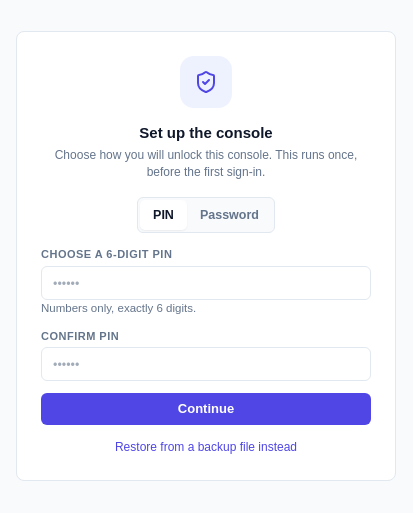
Test: Setup — password mode validation › rejects mismatched passwords
Click the radio button labelled "Password" at {"x": 229, "y": 215}, box 200,208 -> 259,222
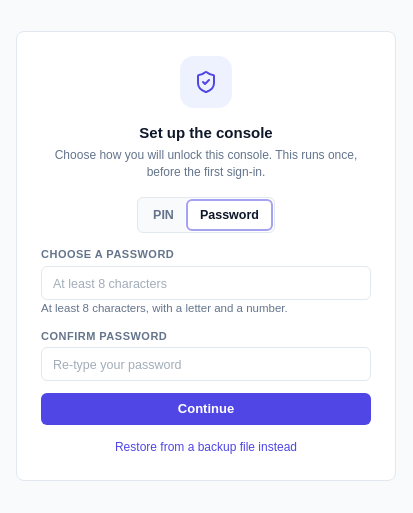
Type "correct-horse-1" into the password field labelled "Choose a password" at {"x": 206, "y": 283}, box 41,266 -> 371,300
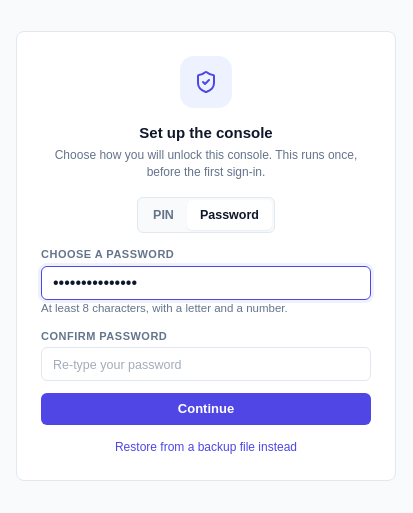
Type "correct-horse-2" into the password field labelled "Confirm password" at {"x": 206, "y": 364}, box 41,347 -> 371,381
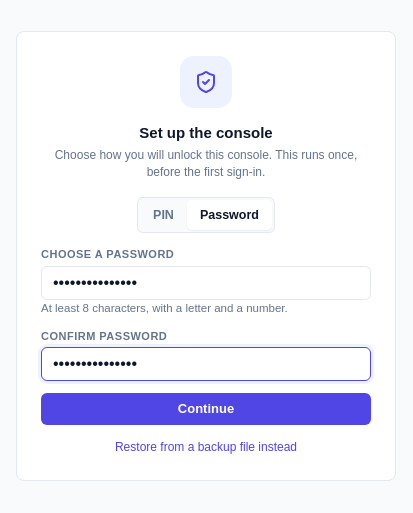
Click the button "Continue" at {"x": 206, "y": 409}, box 41,393 -> 371,425
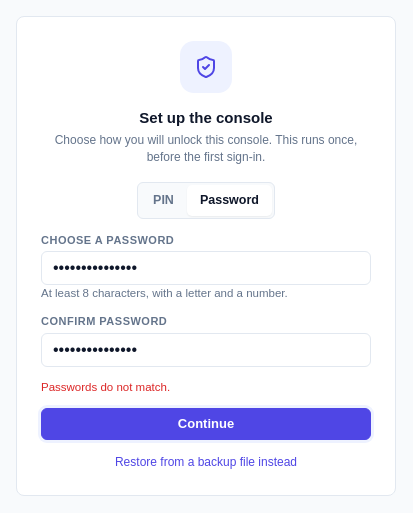
Expected: the text "Passwords do not match." is shown, 41,381 -> 170,393
